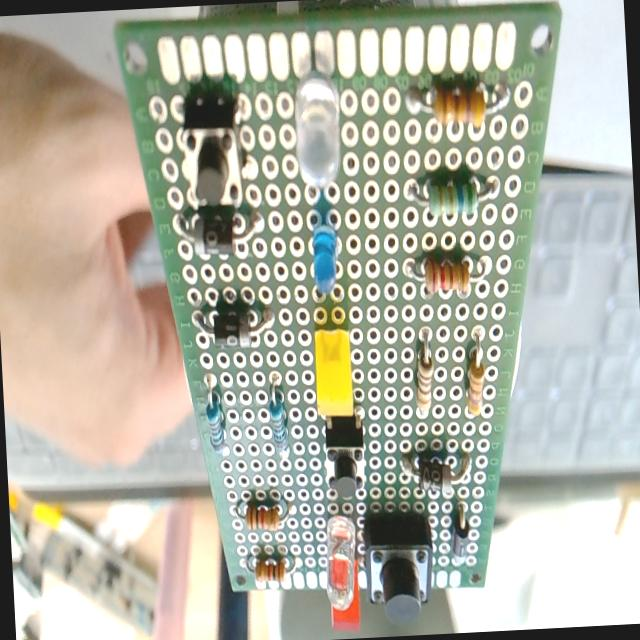diode: (178, 208, 265, 264), (192, 304, 278, 352), (402, 448, 473, 499), (448, 500, 474, 568)
led: (291, 70, 344, 188), (323, 514, 362, 614), (312, 326, 354, 416), (323, 553, 362, 640), (312, 221, 341, 296)
resistor: (206, 371, 294, 460), (410, 328, 480, 420), (406, 77, 510, 132), (408, 174, 499, 222), (406, 252, 488, 300), (203, 376, 228, 456), (414, 341, 436, 415), (464, 354, 486, 418), (268, 392, 290, 455), (246, 502, 280, 532), (255, 558, 288, 586)
switch: (178, 98, 249, 218), (360, 512, 435, 624), (324, 414, 366, 496)
